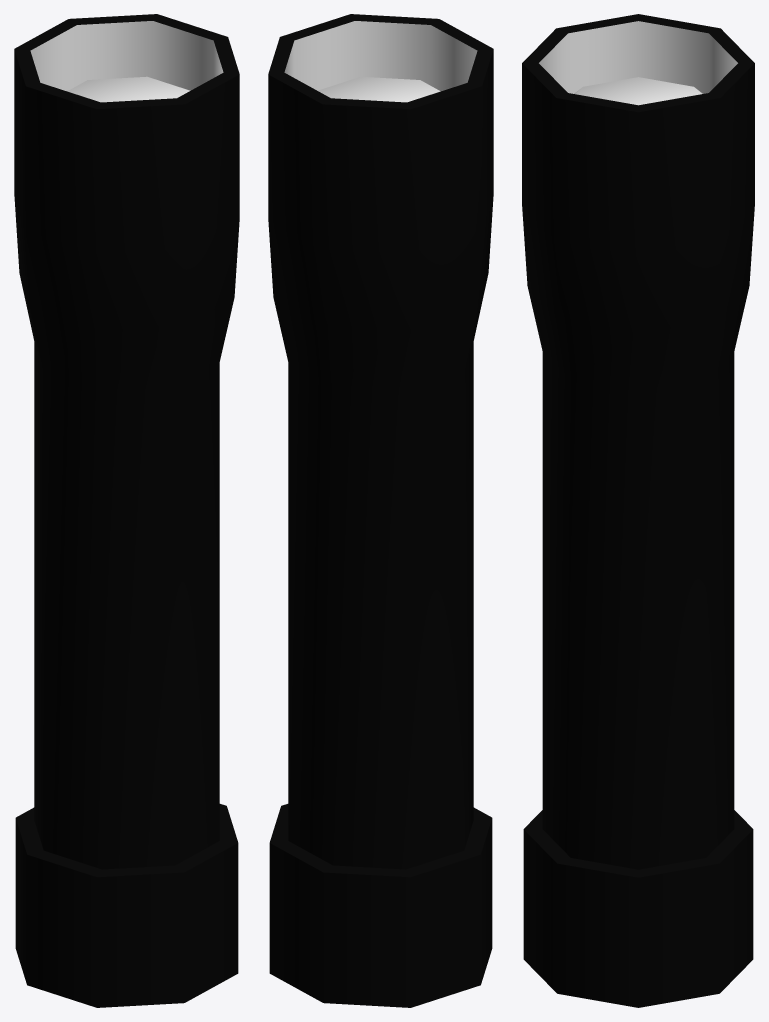
The model's file is flashlight.glb.
3 views of the same model, side by side, from view 1: azimuth 30°, elevation 25°; view 2: azimuth 150°, elevation 25°; view 3: azimuth 270°, elevation 25° (orthographic).
Visible parts, largest first — view 1: Circle; view 2: Circle; view 3: Circle.
Part boxes in pixels (box(x1,y1,x2,y2)): Circle: box(14, 14, 239, 1007); Circle: box(268, 14, 493, 1007); Circle: box(522, 14, 754, 1007).
Size of the model in its own units: 0.486 by 2.07 by 0.486.
Materials: 1 (1 with a texture image).
